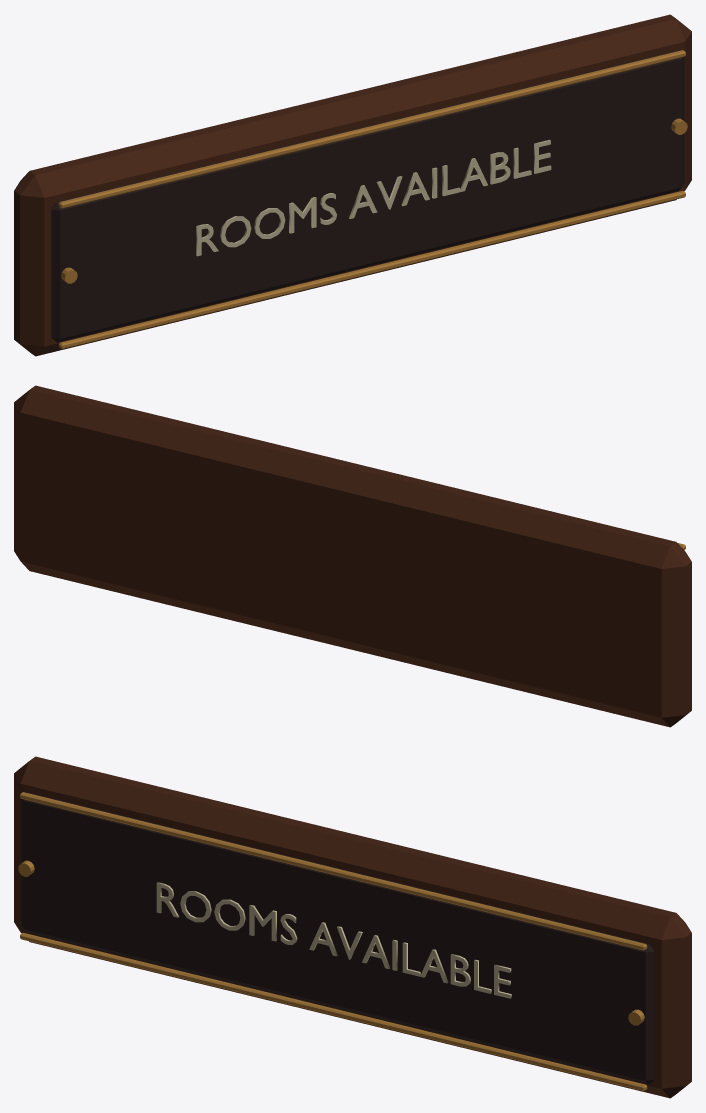
Rendered from RoomsAvailableSign.glb.
3 renders of one model, top to bottom at view 1: azimuth 30°, elevation 25°; view 2: azimuth 150°, elevation 25°; view 3: azimuth 330°, elevation 25°, orthographic.
Visible parts, largest first — view 1: InsetBoard.001, OakSignBoard.001, SignLettering.001, BrassBorder.002, BrassBorder.003; view 2: OakSignBoard.001; view 3: InsetBoard.001, OakSignBoard.001, SignLettering.001, BrassBorder.002, BrassBorder.003.
Boxes of the visible parts, x1,y1,x2,y2 form: InsetBoard.001: [51, 50, 684, 342]; OakSignBoard.001: [14, 14, 691, 356]; SignLettering.001: [196, 139, 551, 256]; BrassBorder.002: [58, 190, 685, 349]; BrassBorder.003: [58, 50, 685, 208]; OakSignBoard.001: [14, 385, 691, 727]; InsetBoard.001: [21, 792, 654, 1084]; OakSignBoard.001: [14, 756, 691, 1098]; SignLettering.001: [156, 882, 511, 998]; BrassBorder.002: [20, 932, 647, 1091]; BrassBorder.003: [20, 792, 647, 950].
Size of the model in its own units: 2.6 by 0.67 by 0.2365.
